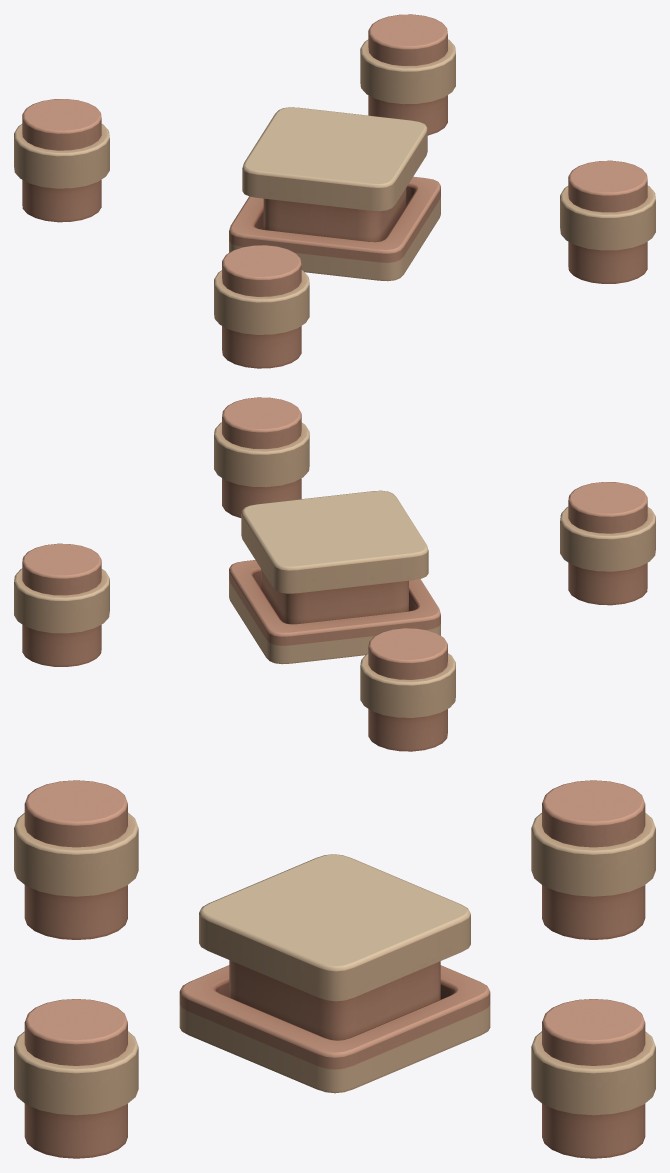
Rendered from Props.fbx.
The picture shows the model from 3 angles, top to bottom: view 1: azimuth 30°, elevation 25°; view 2: azimuth 150°, elevation 25°; view 3: azimuth 270°, elevation 25°; orthographic projection. The views are drawn at different scales.
Visible parts, largest first — view 1: Box, Cylinder (2), Cylinder (3), Cylinder, Cylinder (1); view 2: Box, Cylinder (3), Cylinder (2), Cylinder (1), Cylinder; view 3: Box, Cylinder, Cylinder (1), Cylinder (2), Cylinder (3).
Boxes of the visible parts, x1,y1,x2,y2 form: Box: [229, 107, 440, 281]; Cylinder (2): [214, 245, 309, 368]; Cylinder (3): [14, 99, 109, 222]; Cylinder: [560, 160, 655, 283]; Cylinder (1): [360, 14, 455, 135]; Box: [229, 490, 440, 664]; Cylinder (3): [360, 628, 455, 751]; Cylinder (2): [560, 482, 655, 605]; Cylinder (1): [14, 543, 109, 666]; Cylinder: [214, 397, 309, 517]; Box: [179, 854, 490, 1093]; Cylinder: [14, 999, 138, 1158]; Cylinder (1): [531, 999, 655, 1158]; Cylinder (2): [14, 780, 138, 939]; Cylinder (3): [531, 780, 655, 939].
Bounding box in the file's own units: 24.82 × 5 × 24.82.
Materials: 2 (2 with a texture image).
